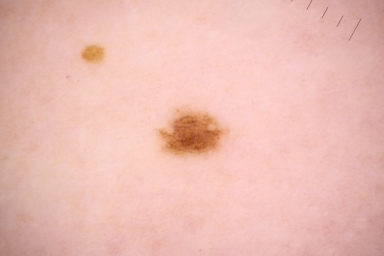nevus: (157, 114, 227, 154)
